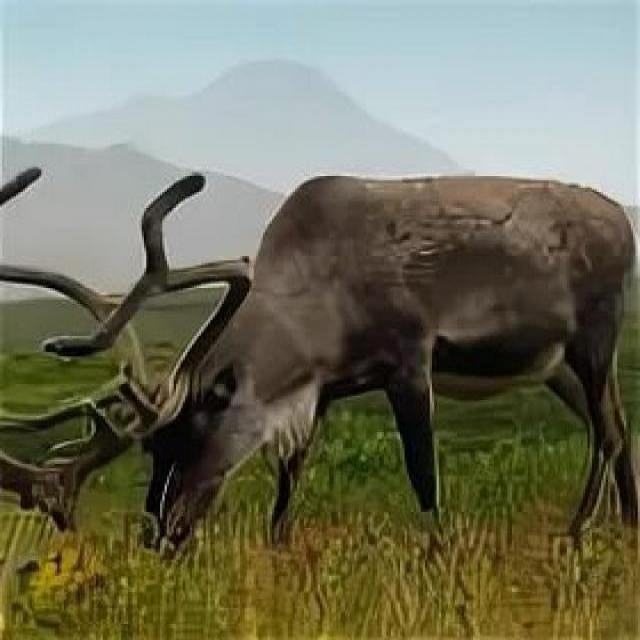deer: (8, 59, 640, 562)
